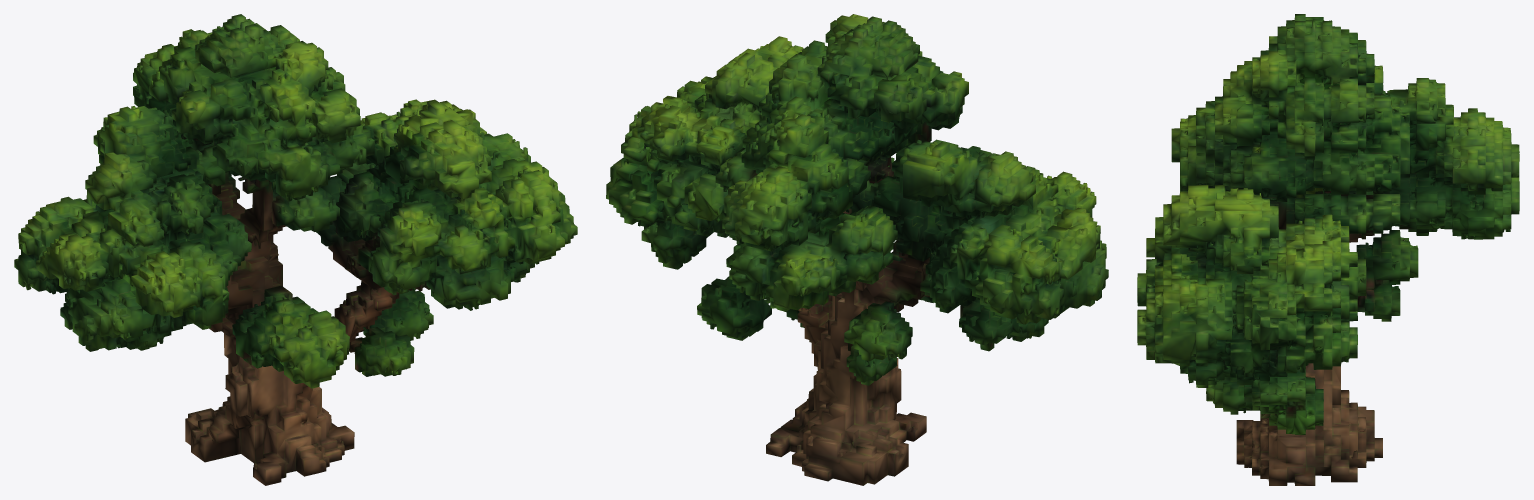
File: tree-lite.glb
The picture shows the model from 3 angles, left to right: view 1: azimuth 30°, elevation 25°; view 2: azimuth 150°, elevation 25°; view 3: azimuth 270°, elevation 25°; orthographic projection. The views are drawn at different scales.
Visible parts, largest first — view 1: node_0; view 2: node_0; view 3: node_0.
Part boxes in pixels (x1=…): node_0: x1=14, y1=14, x2=577, y2=485; node_0: x1=606, y1=14, x2=1108, y2=485; node_0: x1=1137, y1=14, x2=1519, y2=485.
Bounding box in the file's own units: 1.02 × 0.9076 × 0.7458.
1 material, 1 textured.
